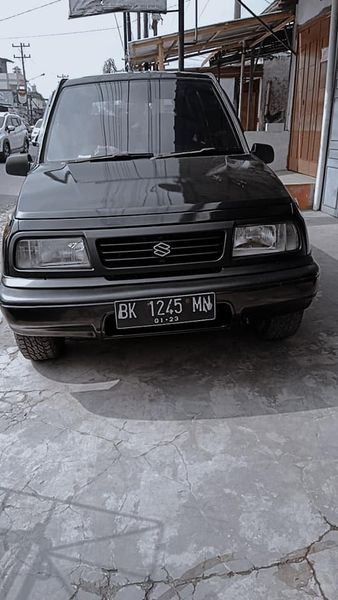plate: (110, 294, 218, 324)
